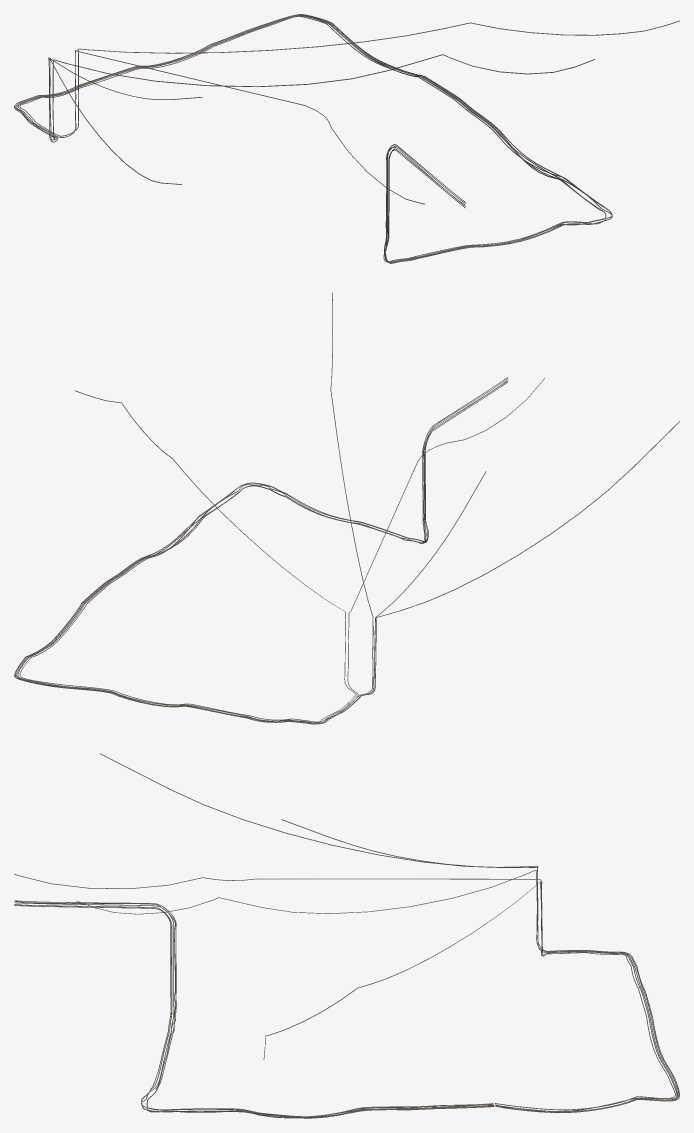
File: SM_Corridor_02_03.fbx
3 renders of one model, top to bottom at view 1: azimuth 30°, elevation 25°; view 2: azimuth 150°, elevation 25°; view 3: azimuth 270°, elevation 25°, orthographic. The views are drawn at different scales.
Parts seen in each view (by area): view 1: Cable Mass.002, SM_Corridor_02_03.001, Cable Mass.001, SM_Corridor_02_03, Cable Mass.004, Cable Mass.003; view 2: Cable Mass.002, SM_Corridor_02_03.001, Cable Mass.001, Cable Mass.004, Cable Mass.003, SM_Corridor_02_03; view 3: Cable Mass.002, SM_Corridor_02_03.001, Cable Mass.004, Cable Mass.001, SM_Corridor_02_03, Cable Mass.003.
Boxes of the visible parts, x1=… form: Cable Mass.002: x1=48, y1=20, x2=679, y2=204; SM_Corridor_02_03.001: x1=300, y1=14, x2=572, y2=185; Cable Mass.001: x1=39, y1=14, x2=302, y2=97; SM_Corridor_02_03: x1=410, y1=184, x2=612, y2=259; Cable Mass.004: x1=383, y1=144, x2=465, y2=263; Cable Mass.003: x1=14, y1=52, x2=78, y2=142; Cable Mass.002: x1=75, y1=292, x2=679, y2=622; SM_Corridor_02_03.001: x1=14, y1=509, x2=213, y2=676; Cable Mass.001: x1=14, y1=676, x2=290, y2=722; Cable Mass.004: x1=403, y1=377, x2=508, y2=543; Cable Mass.003: x1=288, y1=615, x2=376, y2=724; SM_Corridor_02_03: x1=208, y1=482, x2=405, y2=539; Cable Mass.002: x1=14, y1=753, x2=542, y2=1059; SM_Corridor_02_03.001: x1=224, y1=1096, x2=676, y2=1118; Cable Mass.004: x1=14, y1=900, x2=176, y2=1030; Cable Mass.001: x1=631, y1=967, x2=679, y2=1099; SM_Corridor_02_03: x1=141, y1=1030, x2=225, y2=1112; Cable Mass.003: x1=536, y1=870, x2=637, y2=967.
Size of the model in its own units: 6259 by 2120 by 6630.
